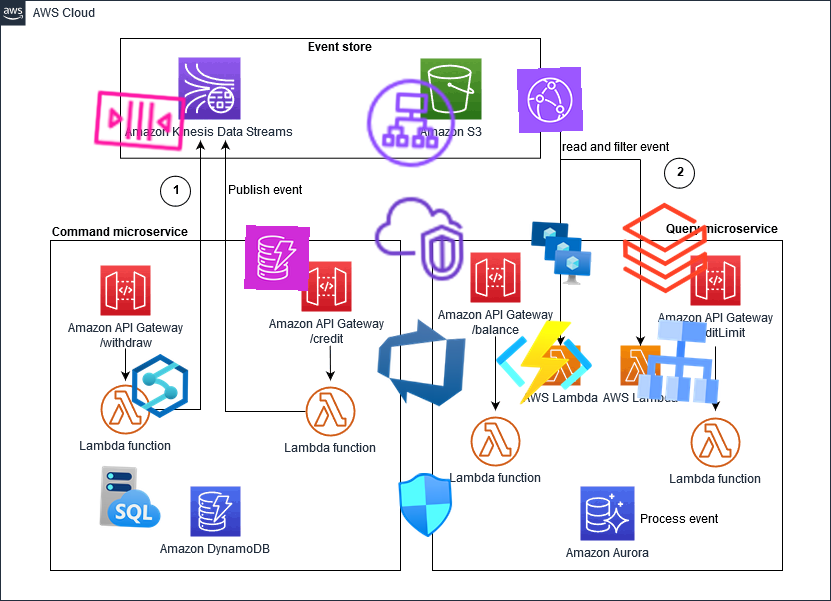aws_amazon_cloudfront: (516, 66, 584, 134)
aws_amazon_dynamodb: (244, 225, 310, 291)
aws_elastic_load_balancing_application_load_balancer: (361, 73, 461, 173)
aws_simple_queue_service_queue: (88, 68, 192, 172)
aws_vpc_virtual_private_cloud_vpc: (370, 190, 468, 288)
azure_databricks: (616, 199, 714, 297)
azure_devops: (369, 310, 473, 414)
azure_function_apps: (493, 312, 595, 414)
azure_network_security_groups: (392, 471, 460, 539)
azure_sql_managed_instance: (97, 463, 165, 531)
azure_synapse_analytics: (127, 353, 193, 419)
azure_vm_scale_sets: (526, 218, 594, 286)
gcp_cloud_load_balancing: (628, 309, 732, 413)
